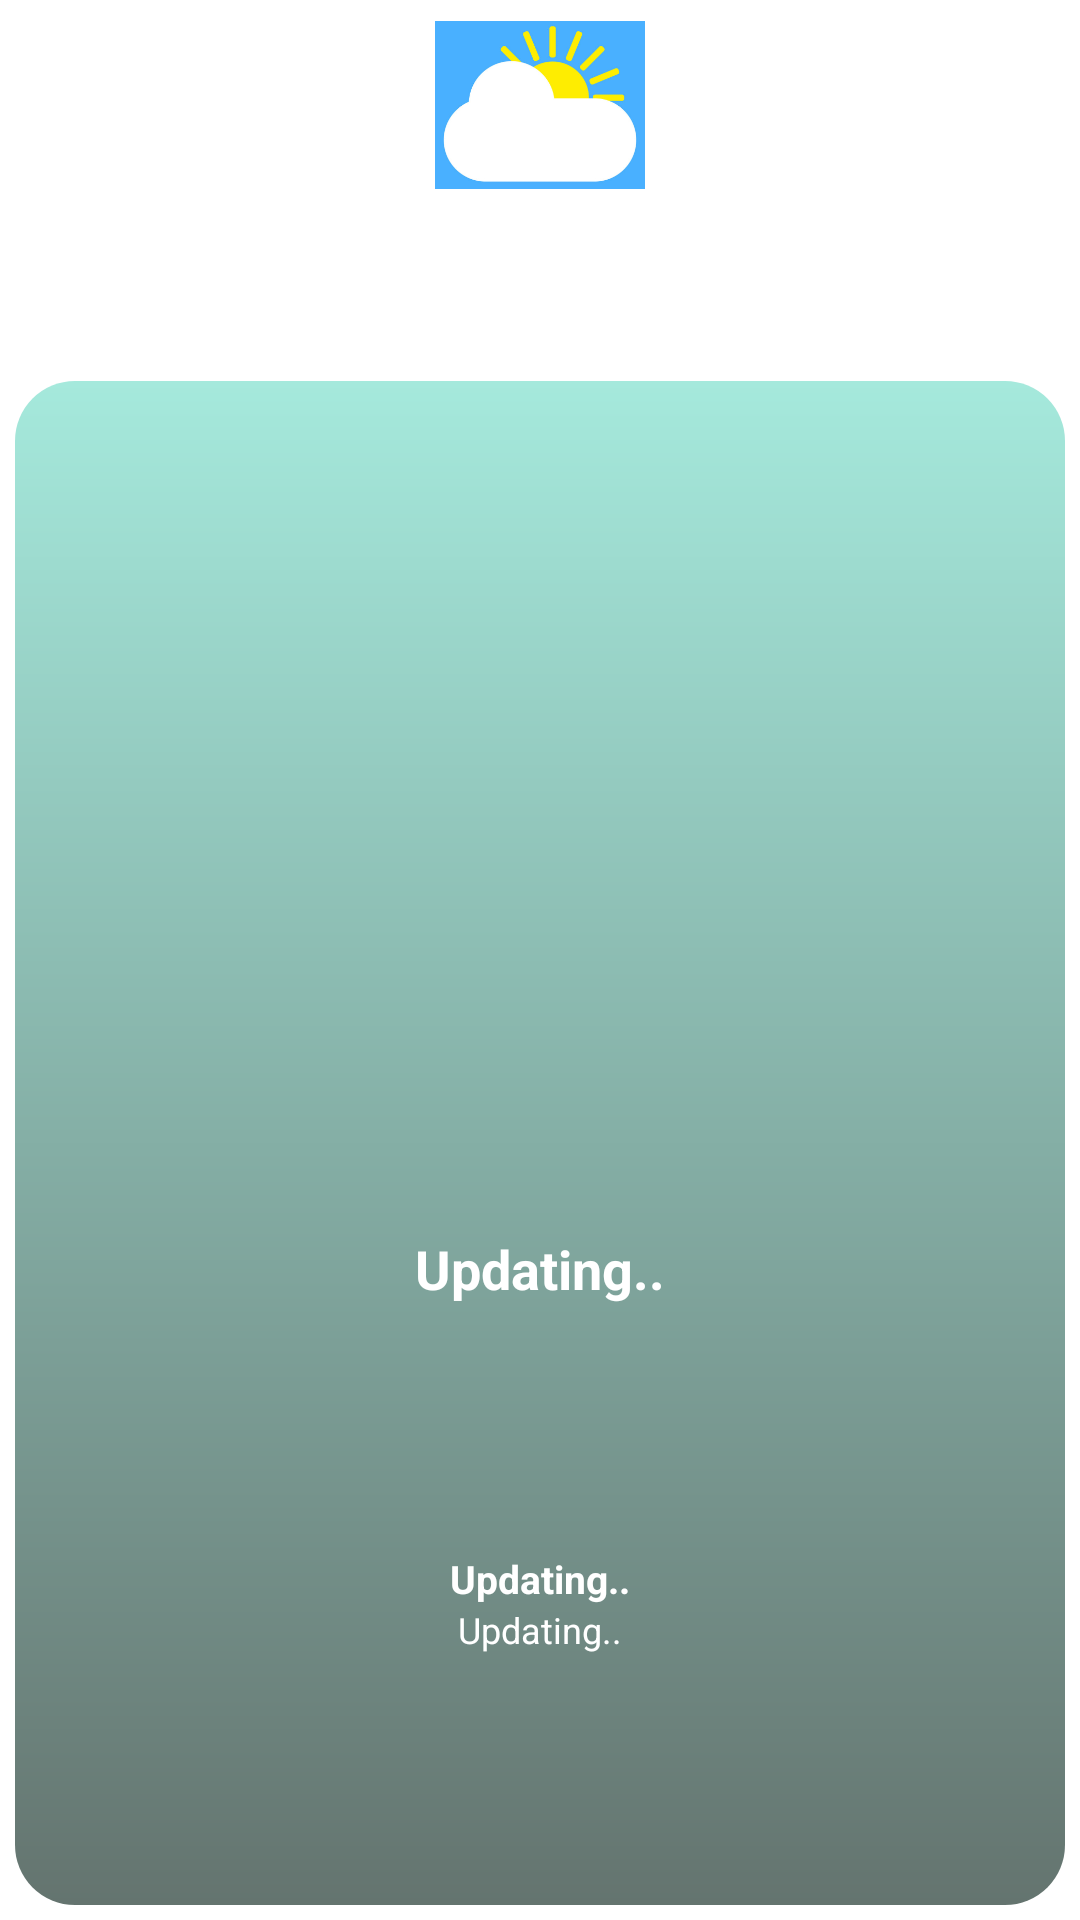

Icons on this 1080x1920 Android screen, each with its box as box(x1, y1, x2, y2):
weather: box(435, 21, 645, 189)
